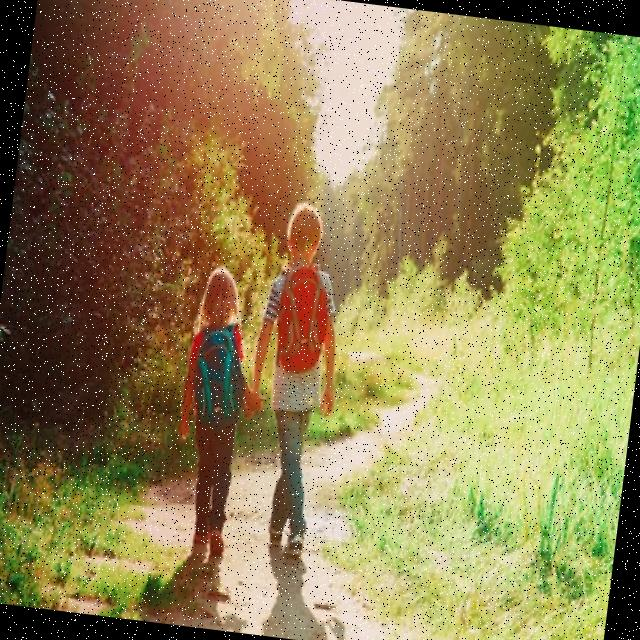Person: (230, 199, 356, 560), (164, 264, 280, 556)
